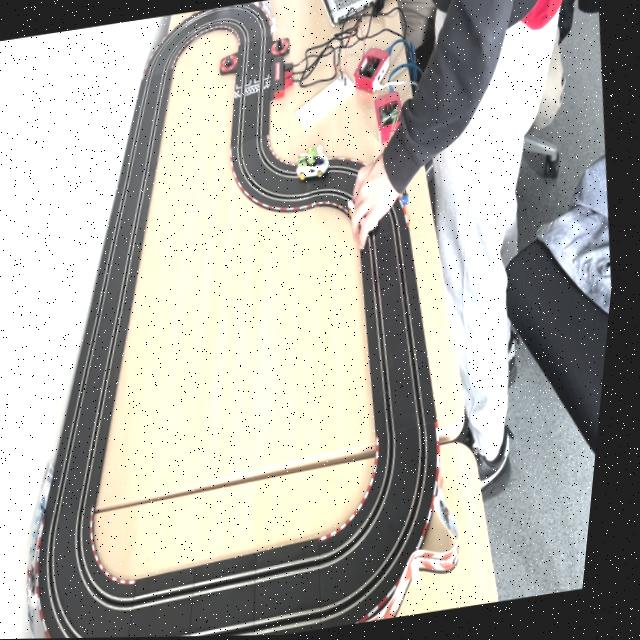yoshi: (295, 143, 337, 185)
